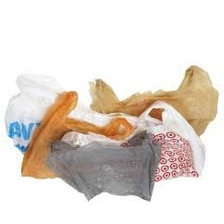plastic_bag: (59, 105, 217, 193), (12, 88, 143, 187), (83, 62, 219, 145), (2, 70, 117, 162), (38, 137, 165, 205)
